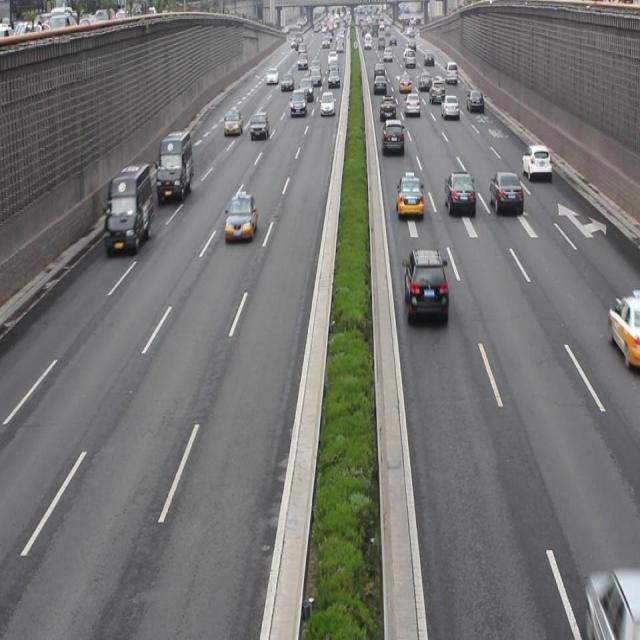car: (584, 566, 640, 640), (404, 245, 449, 325), (606, 292, 640, 369), (223, 193, 256, 241), (444, 168, 476, 216), (489, 170, 523, 215), (395, 172, 423, 218), (520, 141, 551, 179), (249, 111, 270, 140), (223, 108, 243, 135), (441, 93, 459, 120)
truck: (104, 162, 152, 254), (156, 131, 192, 201), (382, 116, 404, 157)
